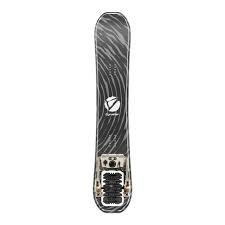snowboard: (93, 11, 133, 213)
